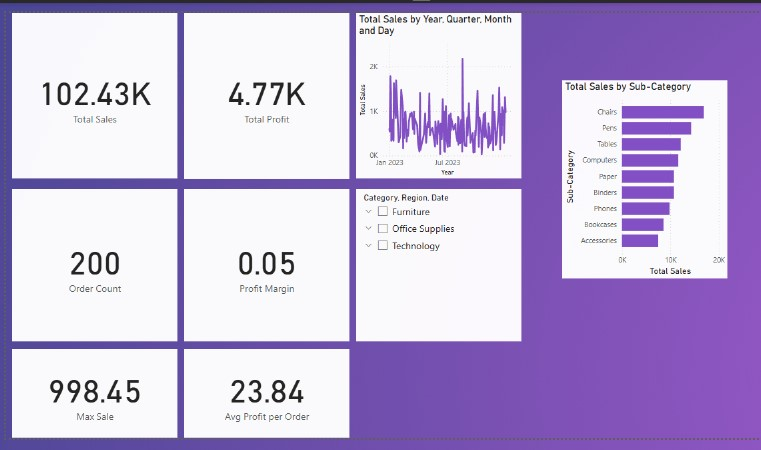

Layout of this report page (visuals, bound fields, positions):
{"tool":"powerbi","page":{"name":"Page 1","canvas":[1280,720],"ordinal":0},"visuals":[{"type":"card","fields":{"Values":["sample_sales_dataset.Total Sales"]},"box":[10,0,280,280],"z":0},{"type":"card","fields":{"Values":["sample_sales_dataset.Total Profit"]},"box":[302.1,0,279.7,281.6],"z":1000},{"type":"card","fields":{"Values":["sample_sales_dataset.Order Count"]},"box":[10,298,280,258],"z":2000},{"type":"card","fields":{"Values":["sample_sales_dataset.Max Sale"]},"box":[10,570,280,150],"z":3000},{"type":"card","fields":{"Values":["sample_sales_dataset.Profit Margin"]},"box":[302,298,280,258],"z":4000},{"type":"card","fields":{"Values":["sample_sales_dataset.Avg Profit per Order"]},"box":[302,570,280,150],"z":5000},{"type":"lineChart","fields":{"Y":["sample_sales_dataset.Total Sales"],"Category":["sample_sales_dataset.Date.Variation.Date Hierarchy.Year","sample_sales_dataset.Date.Variation.Date Hierarchy.Quarter","sample_sales_dataset.Date.Variation.Date Hierarchy.Month","sample_sales_dataset.Date.Variation.Date Hierarchy.Day"]},"box":[593.9,0,280,280],"z":6000},{"type":"barChart","fields":{"Category":["sample_sales_dataset.Sub-Category"],"Y":["sample_sales_dataset.Total Sales"]},"box":[942,114,280,336],"z":7000},{"type":"slicer","fields":{"Values":["sample_sales_dataset.Category","sample_sales_dataset.Region","sample_sales_dataset.Date"]},"box":[594,298,280,258],"z":8000}]}

Visuals, with their boxes in screenshot pixels (x1, y1, x2, y2):
card - sample_sales_dataset.Total Sales: (x1=12, y1=12, x2=176, y2=176)
card - sample_sales_dataset.Total Profit: (x1=183, y1=12, x2=347, y2=177)
card - sample_sales_dataset.Order Count: (x1=12, y1=187, x2=176, y2=338)
card - sample_sales_dataset.Max Sale: (x1=12, y1=346, x2=176, y2=434)
card - sample_sales_dataset.Profit Margin: (x1=183, y1=187, x2=347, y2=338)
card - sample_sales_dataset.Avg Profit per Order: (x1=183, y1=346, x2=347, y2=434)
lineChart - sample_sales_dataset.Total Sales x sample_sales_dataset.Date.Variation.Date Hierarchy.Year: (x1=354, y1=12, x2=518, y2=176)
barChart - sample_sales_dataset.Sub-Category x sample_sales_dataset.Total Sales: (x1=558, y1=79, x2=722, y2=276)
slicer - sample_sales_dataset.Category x sample_sales_dataset.Region: (x1=354, y1=187, x2=518, y2=338)
